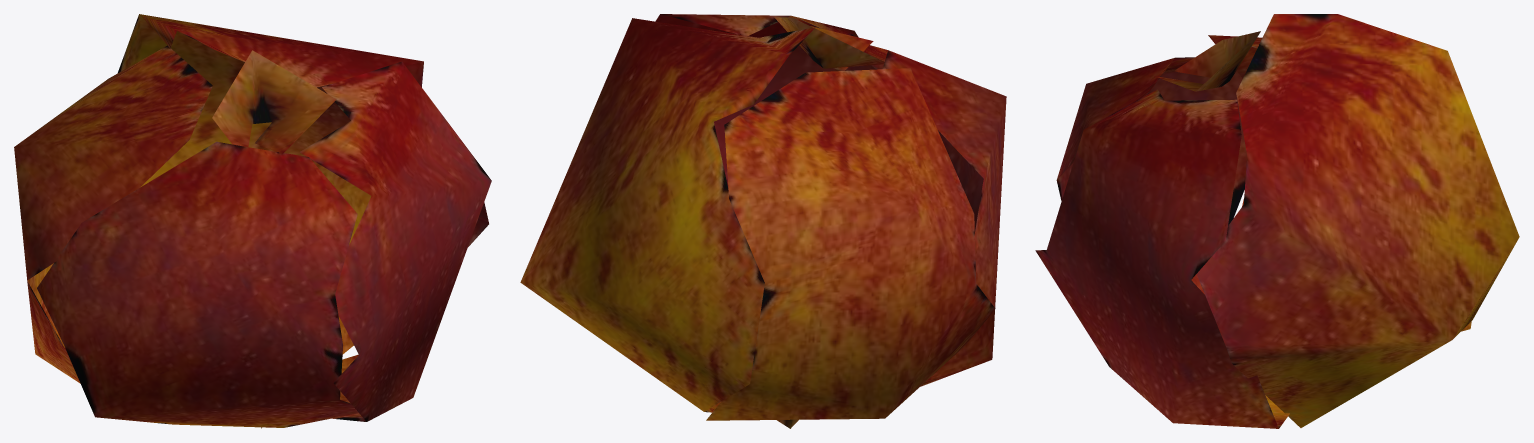
Rendered from ph_food_apple_01.glb.
The picture shows the model from 3 angles, left to right: view 1: azimuth 30°, elevation 25°; view 2: azimuth 150°, elevation 25°; view 3: azimuth 270°, elevation 25°; orthographic projection. The views are drawn at different scales.
Visible parts, largest first — view 1: food_apple_01; view 2: food_apple_01; view 3: food_apple_01.
Boxes of the visible parts, <box> form: food_apple_01: <box>14,14,491,428</box>; food_apple_01: <box>520,14,1006,428</box>; food_apple_01: <box>1035,14,1519,428</box>.
Size of the model in its own units: 0.1007 by 0.0879 by 0.102.
Materials: 1 (1 with a texture image).
